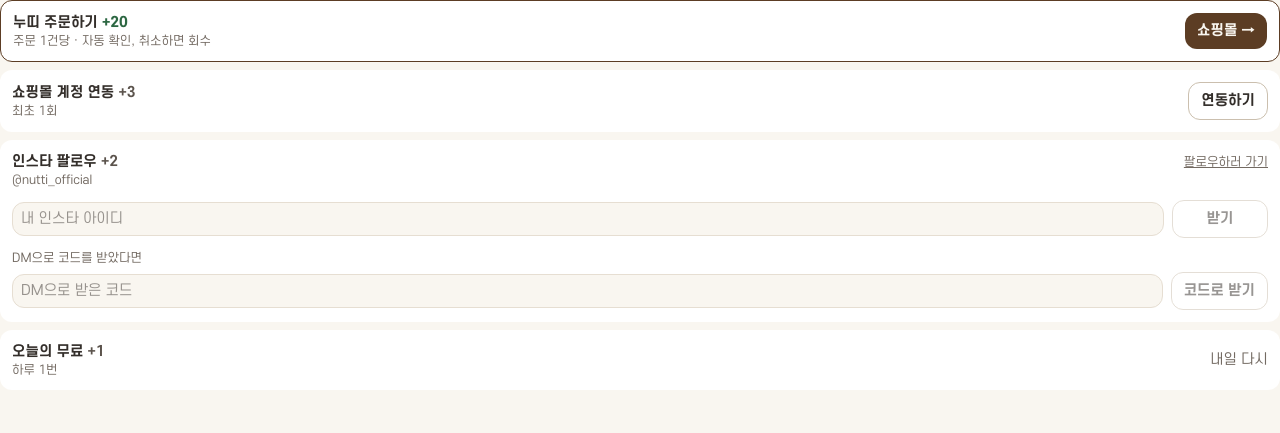
Test: EarnActionList · 인스타 DM 코드 › 코드를 손으로 넣어도 되고, 틀린 코드는 그렇다고 말한다
Expected: the button "코드로 받기" is disabled, x1=1171 y1=272 x2=1268 y2=310
Step 1. Type "k7m2p9qx" into the field named "인스타 DM 코드" → (587, 291), box x1=12 y1=274 x2=1163 y2=308
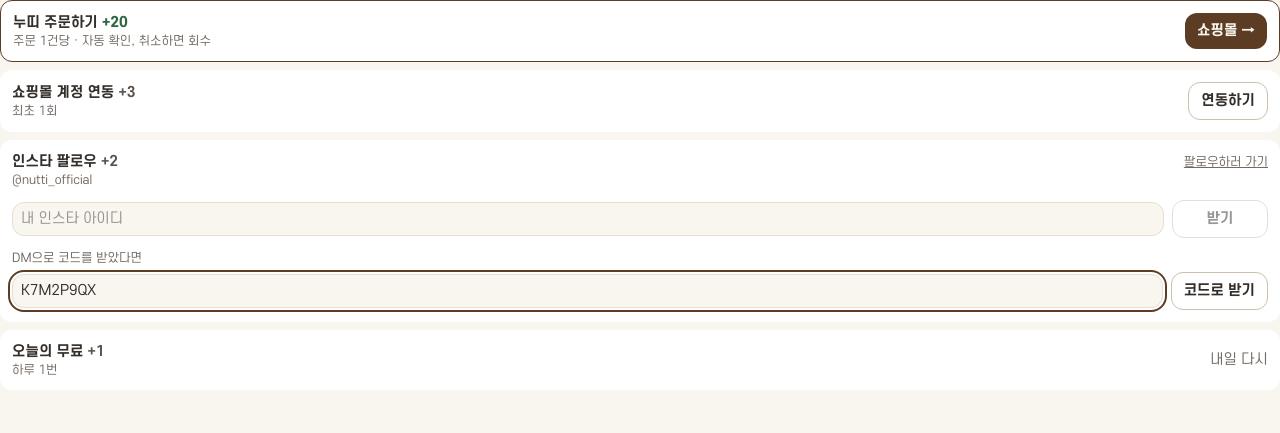
Now the button "코드로 받기" is enabled
Step 2. Click the button "코드로 받기" → (1219, 291), box x1=1171 y1=272 x2=1268 y2=310
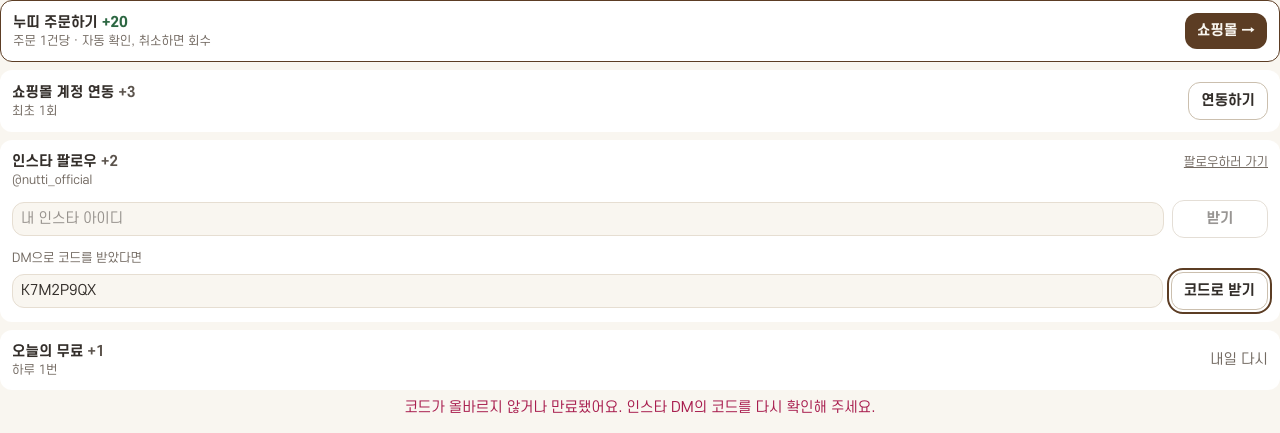
Now the message shows "코드가 올바르지 않거나 만료됐어요", box x1=404 y1=399 x2=876 y2=416
